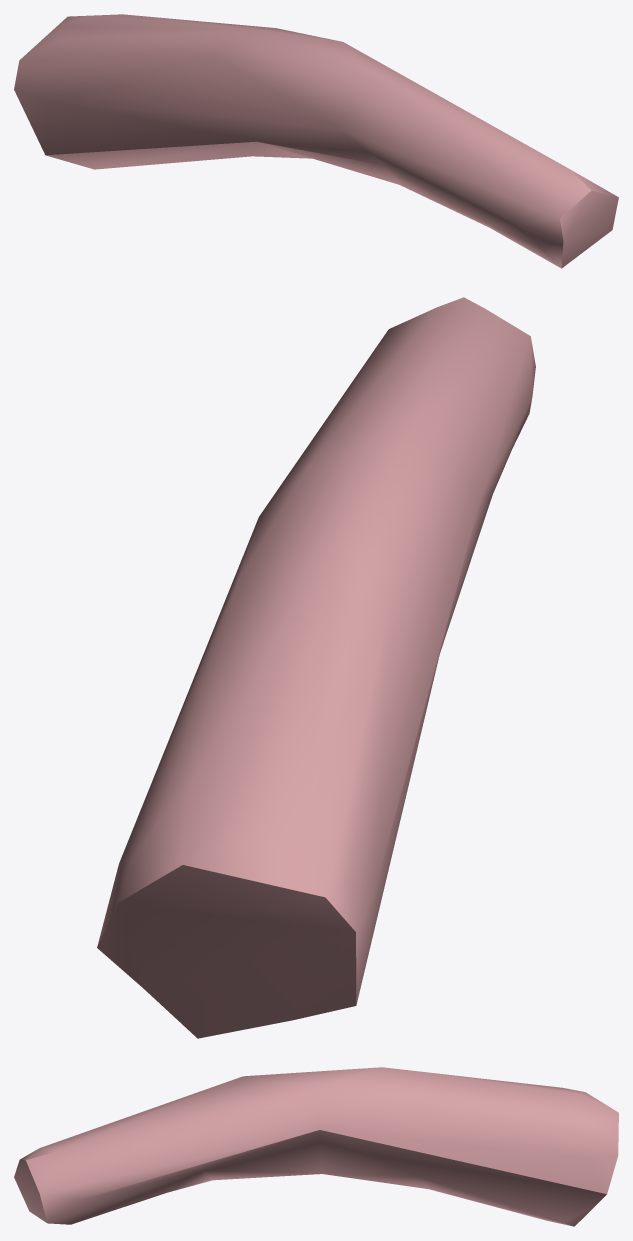
File: fma68222_fj6499.glb
3 views of the same model, one above another, from view 1: azimuth 30°, elevation 25°; view 2: azimuth 150°, elevation 25°; view 3: azimuth 270°, elevation 25° (orthographic). The views are drawn at different scales.
Visible parts, largest first — view 1: FMA68222_FJ6499; view 2: FMA68222_FJ6499; view 3: FMA68222_FJ6499.
Boxes of the visible parts, x1,y1,x2,y2 form: FMA68222_FJ6499: (14, 14, 618, 268); FMA68222_FJ6499: (97, 297, 535, 1038); FMA68222_FJ6499: (14, 1067, 618, 1226).
Bounding box in the file's own units: 0.00519 × 0.00346 × 0.0107.
